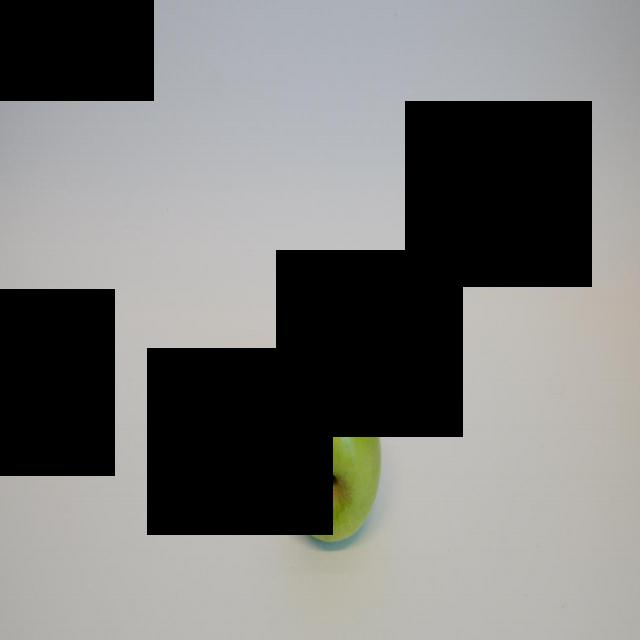apple: (284, 366, 384, 546)
